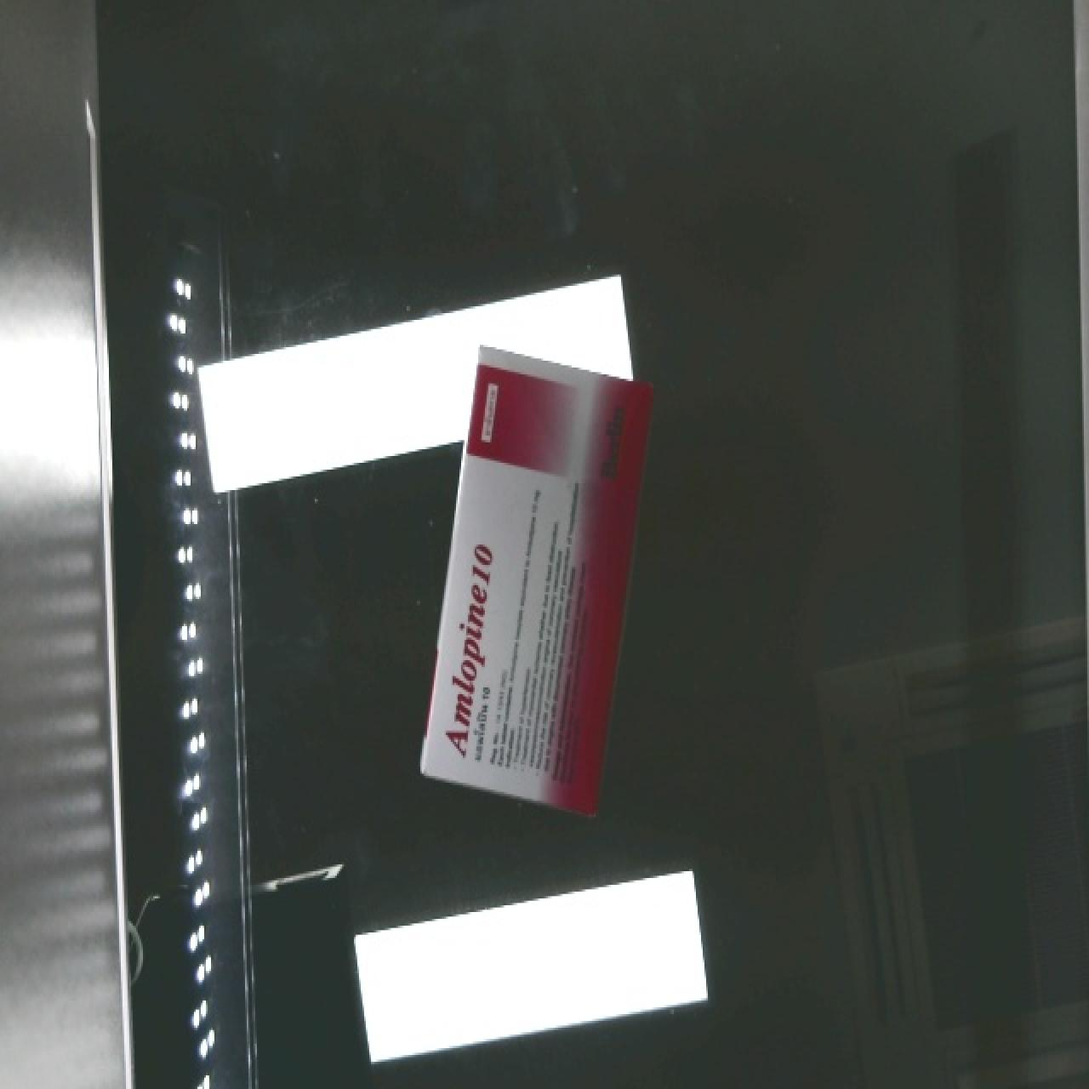medicine_label_obb: (426, 520, 509, 780)
